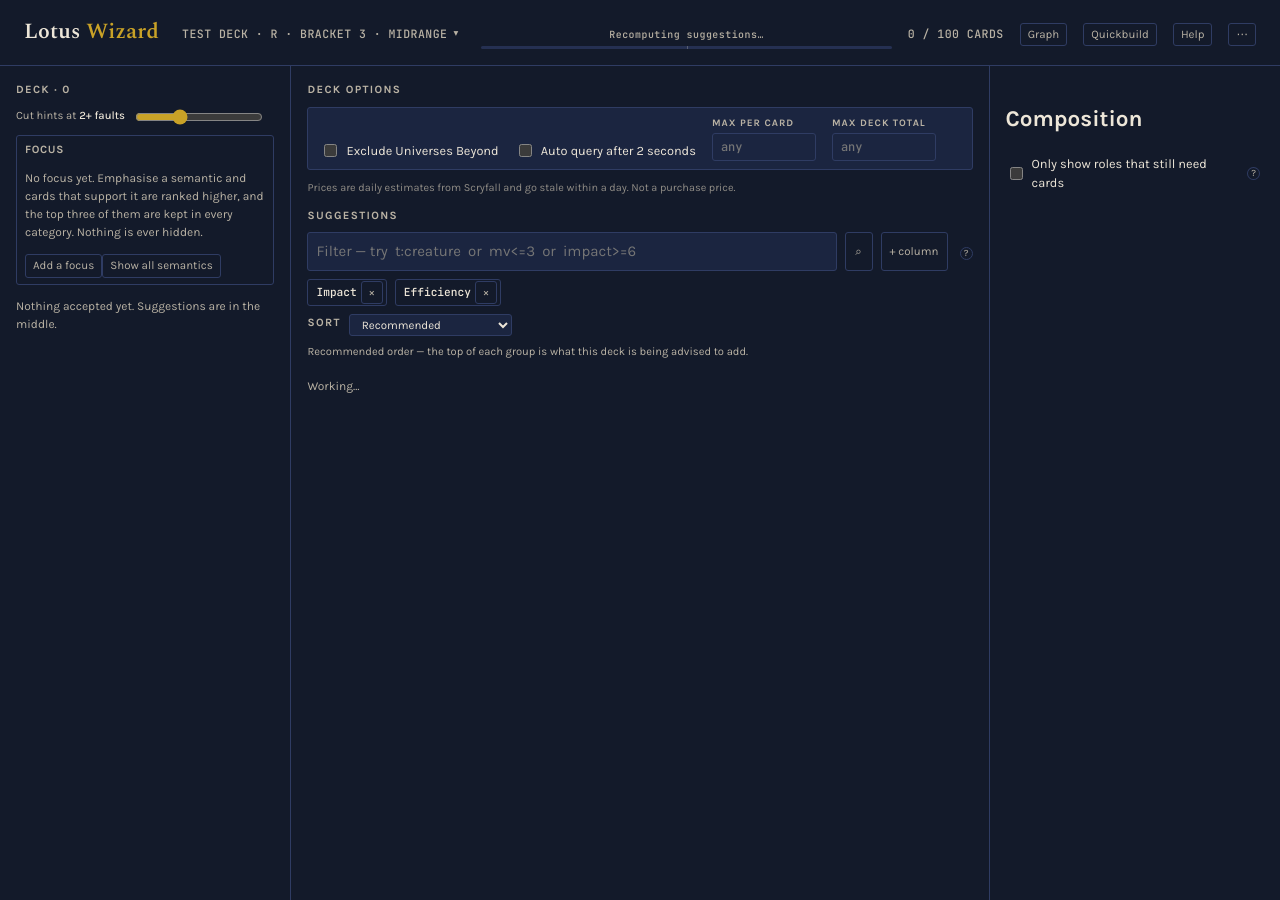
Test: D5: Help runs the same tour on demand › hands focus back to Help when the tour is dismissed (§20.6)
The width and height of the screenshot is (1280, 900).
What coordinates should you click on to do the following:
click the button "Help"
I would click on:
 (1193, 35)
Its box is 1173,23 -> 1212,46.
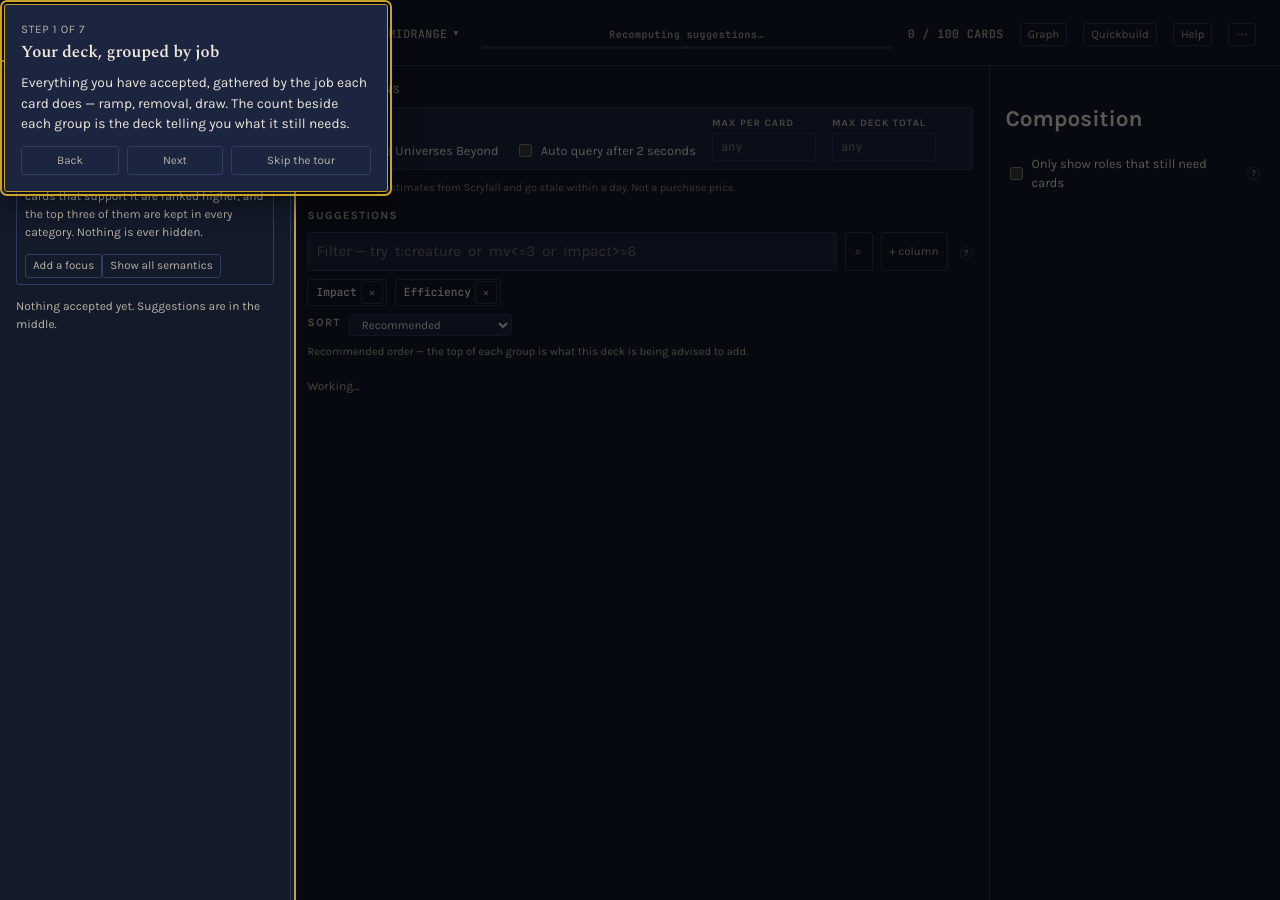
What coordinates should you click on to do the following:
click the button "Skip the tour"
I would click on:
 (301, 161)
Its box is 231,146 -> 371,175.
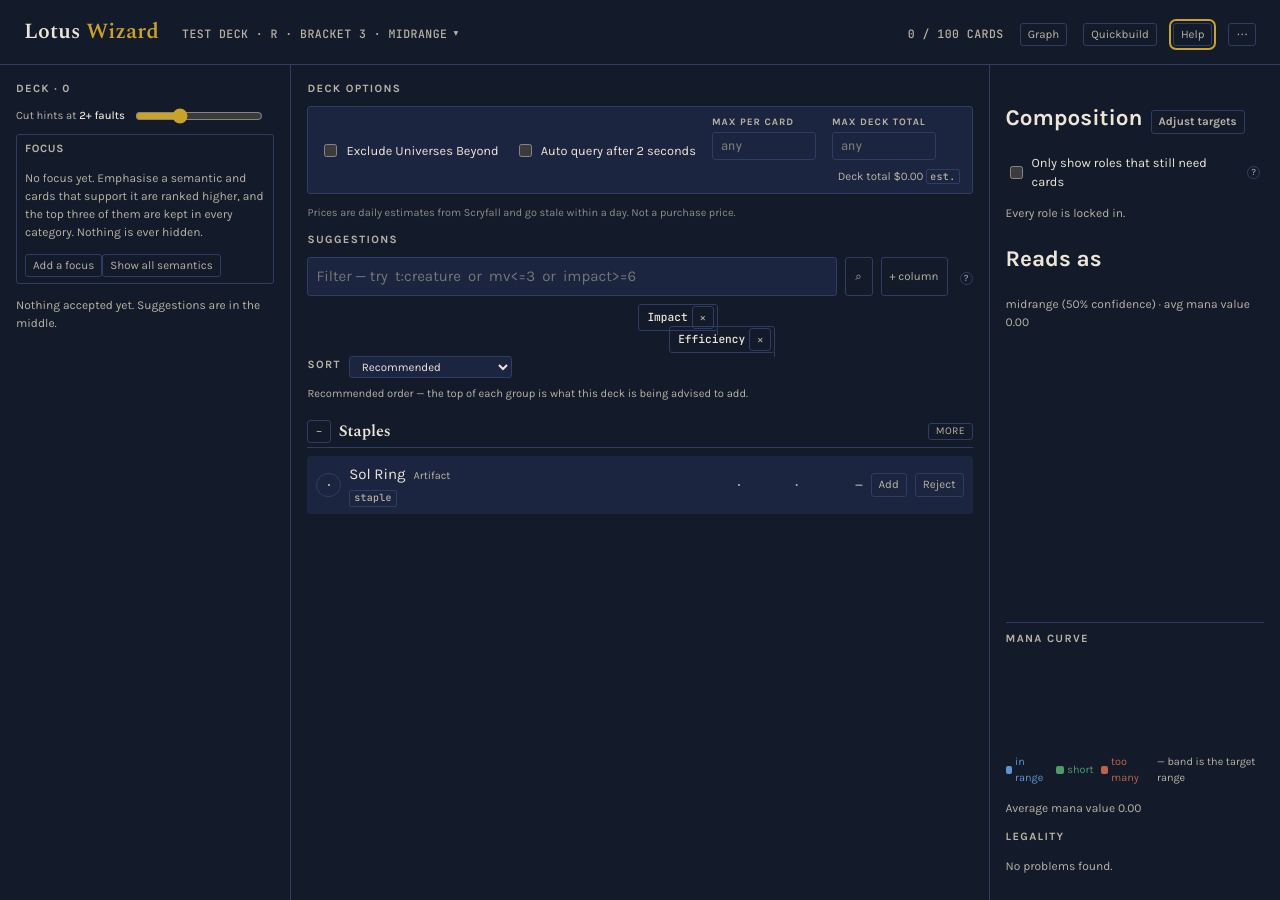
Expected: the dialog is gone
